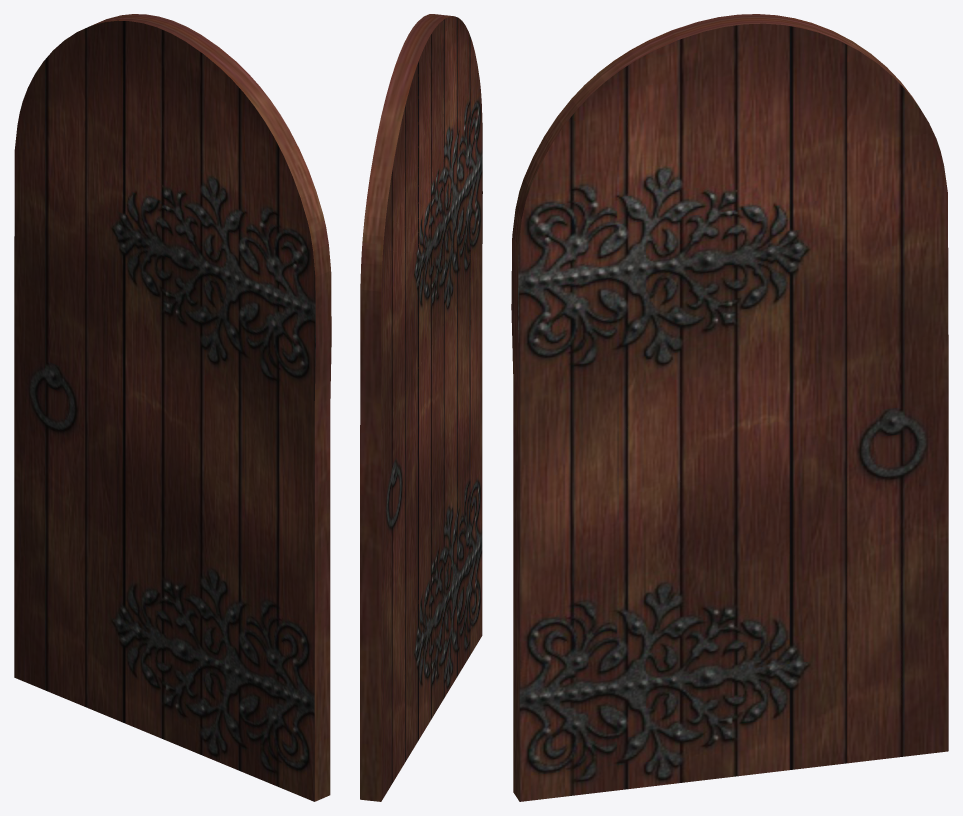
File: door 22.obj
3 views of the same model, side by side, from view 1: azimuth 30°, elevation 25°; view 2: azimuth 150°, elevation 25°; view 3: azimuth 270°, elevation 25° (orthographic). The views are drawn at different scales.
Parts seen in each view (by area): view 1: door_10:Mesh; view 2: door_10:Mesh; view 3: door_10:Mesh.
Boxes of the visible parts, box(x1,y1,x2,y2) form: door_10:Mesh: box(14, 14, 331, 801); door_10:Mesh: box(360, 14, 482, 801); door_10:Mesh: box(511, 14, 948, 801).
Size of the model in its own units: 20.69 by 120 by 63.2.
Materials: 1 (1 with a texture image).
